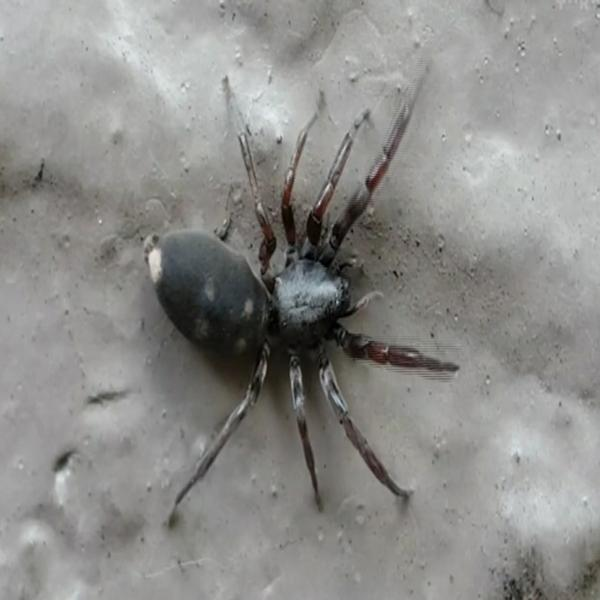White-Tailed Spider: (142, 113, 440, 494)
